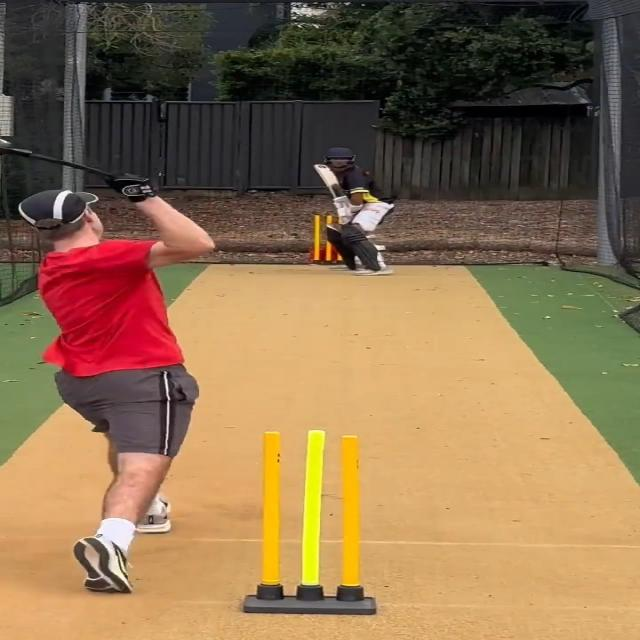stump: (244, 429, 379, 616), (312, 214, 342, 264)
